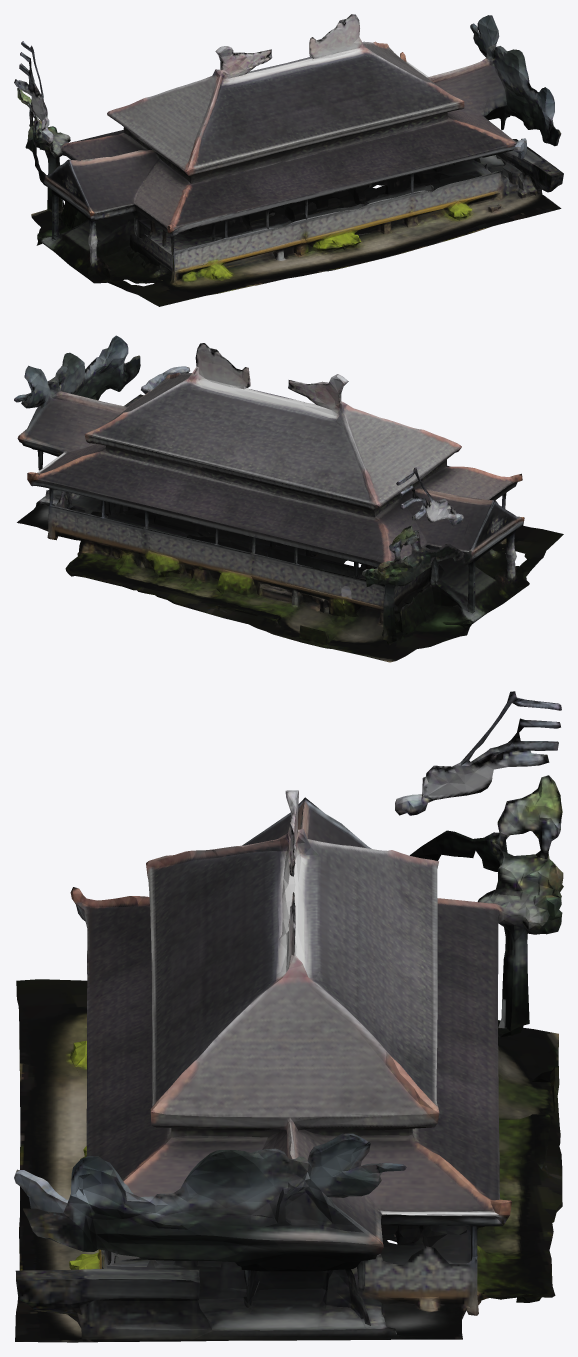
Rendered from kalimantan-timur.glb.
3 views of the same model, one above another, from view 1: azimuth 30°, elevation 25°; view 2: azimuth 150°, elevation 25°; view 3: azimuth 270°, elevation 25° (orthographic). The views are drawn at different scales.
Parts seen in each view (by area): view 1: world; view 2: world; view 3: world.
Part boxes in pixels (x1,y1,x2,y2): world: (14, 14, 563, 306); world: (14, 335, 563, 662); world: (14, 691, 563, 1342).
Bounding box in the file's own units: 0.6998 × 0.2955 × 0.4114.
1 material, 1 textured.
